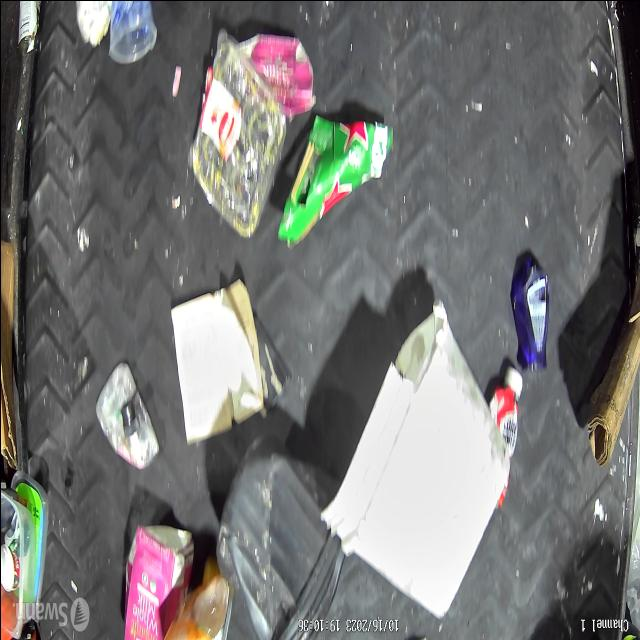can: (13, 0, 37, 58)
milk_jug: (318, 296, 510, 618)
non_white_jug: (120, 520, 194, 640)
plastic_bottle: (92, 358, 158, 470)
